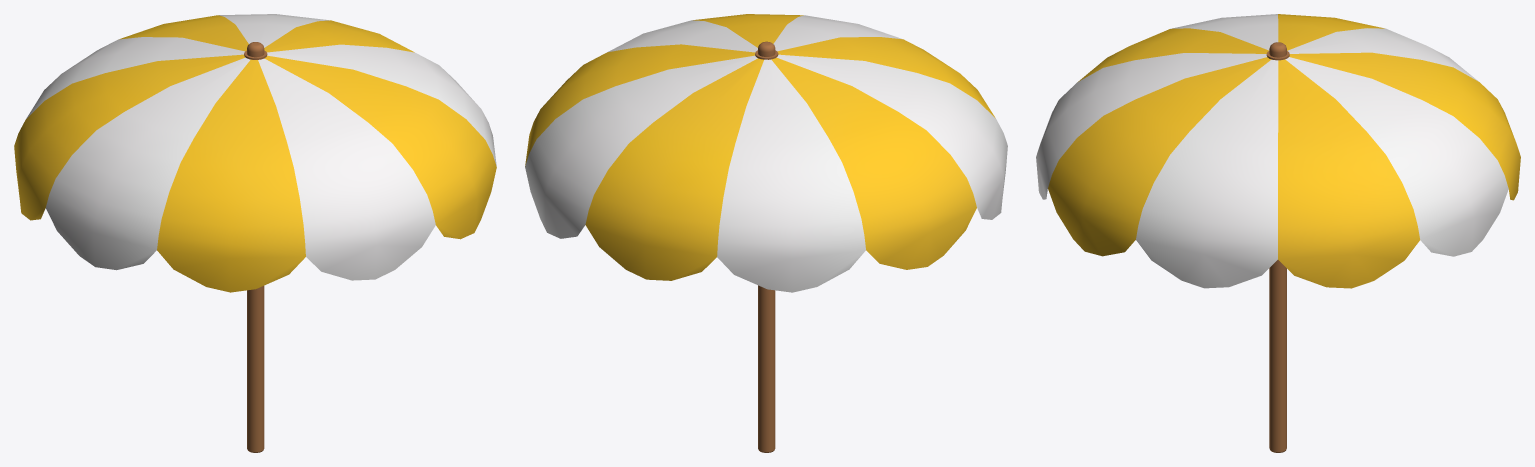
The model's file is beach-umbrella-02-2.glb.
3 renders of one model, left to right at view 1: azimuth 30°, elevation 25°; view 2: azimuth 150°, elevation 25°; view 3: azimuth 270°, elevation 25°, orthographic.
Visible parts, largest first — view 1: beach umbrella 02; view 2: beach umbrella 02; view 3: beach umbrella 02.
Part boxes in pixels (x1,y1,x2,y2): beach umbrella 02: (14, 14, 496, 452); beach umbrella 02: (525, 14, 1007, 452); beach umbrella 02: (1036, 14, 1520, 452).
Size of the model in its own units: 1.97 by 1.82 by 1.97.
Materials: 1 (1 with a texture image).
